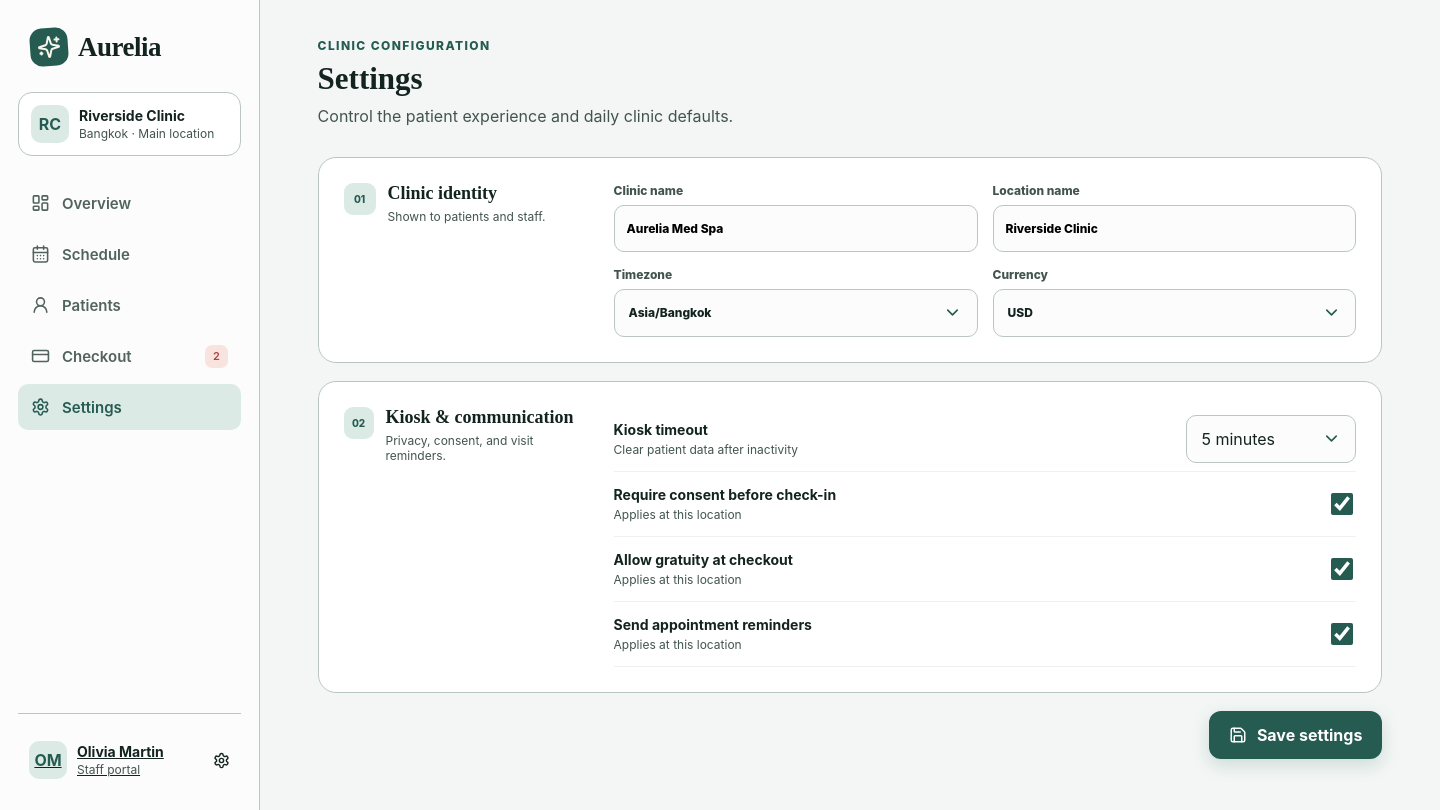
Test case: staff pages › edits and saves clinic settings
Step 1. Replace the text in the field labelled "Clinic name" with "Aurelia Test Clinic" → x=796, y=228, box x1=614 y1=205 x2=978 y2=252
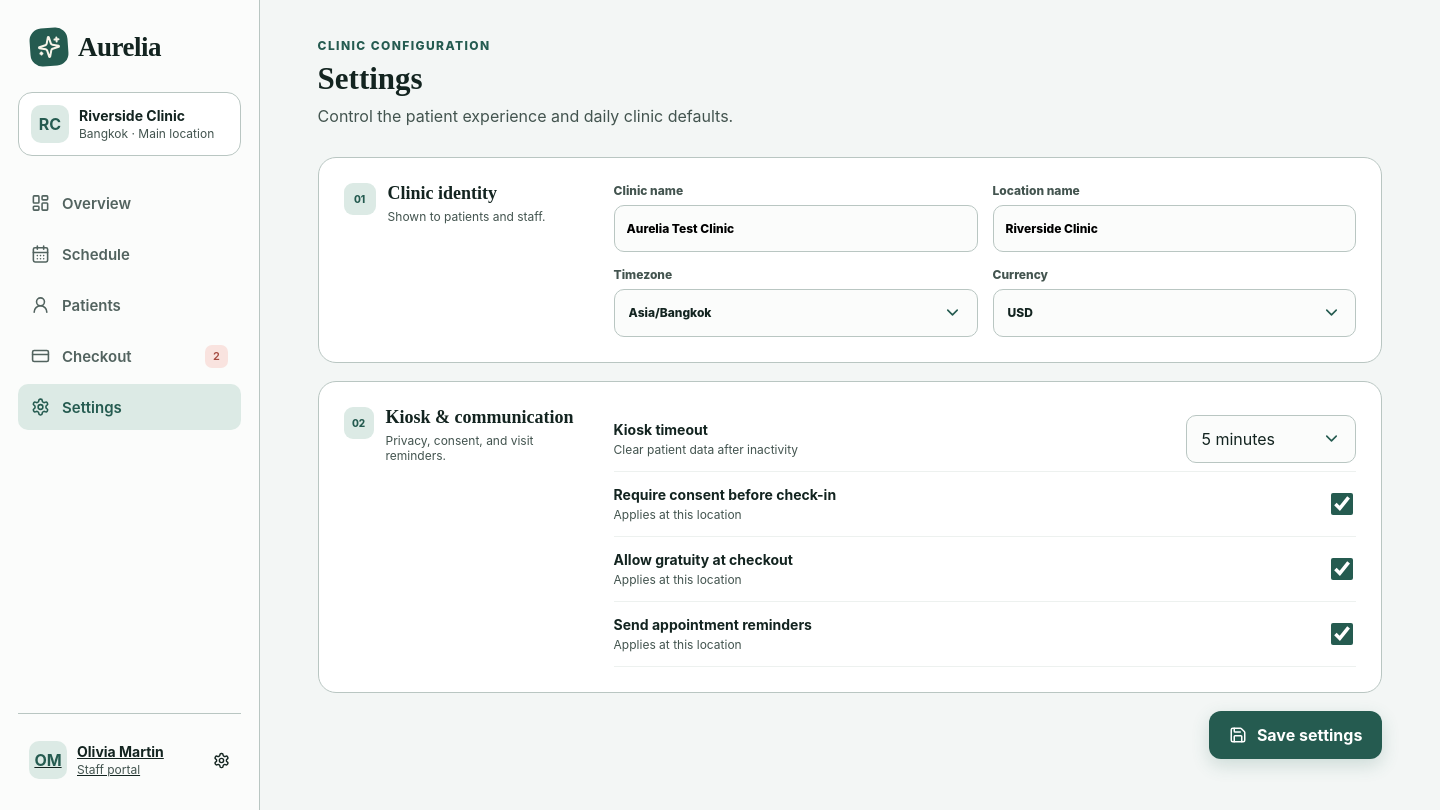
Step 2. Click the button "Save settings" → x=1296, y=735, box x1=1209 y1=711 x2=1382 y2=759
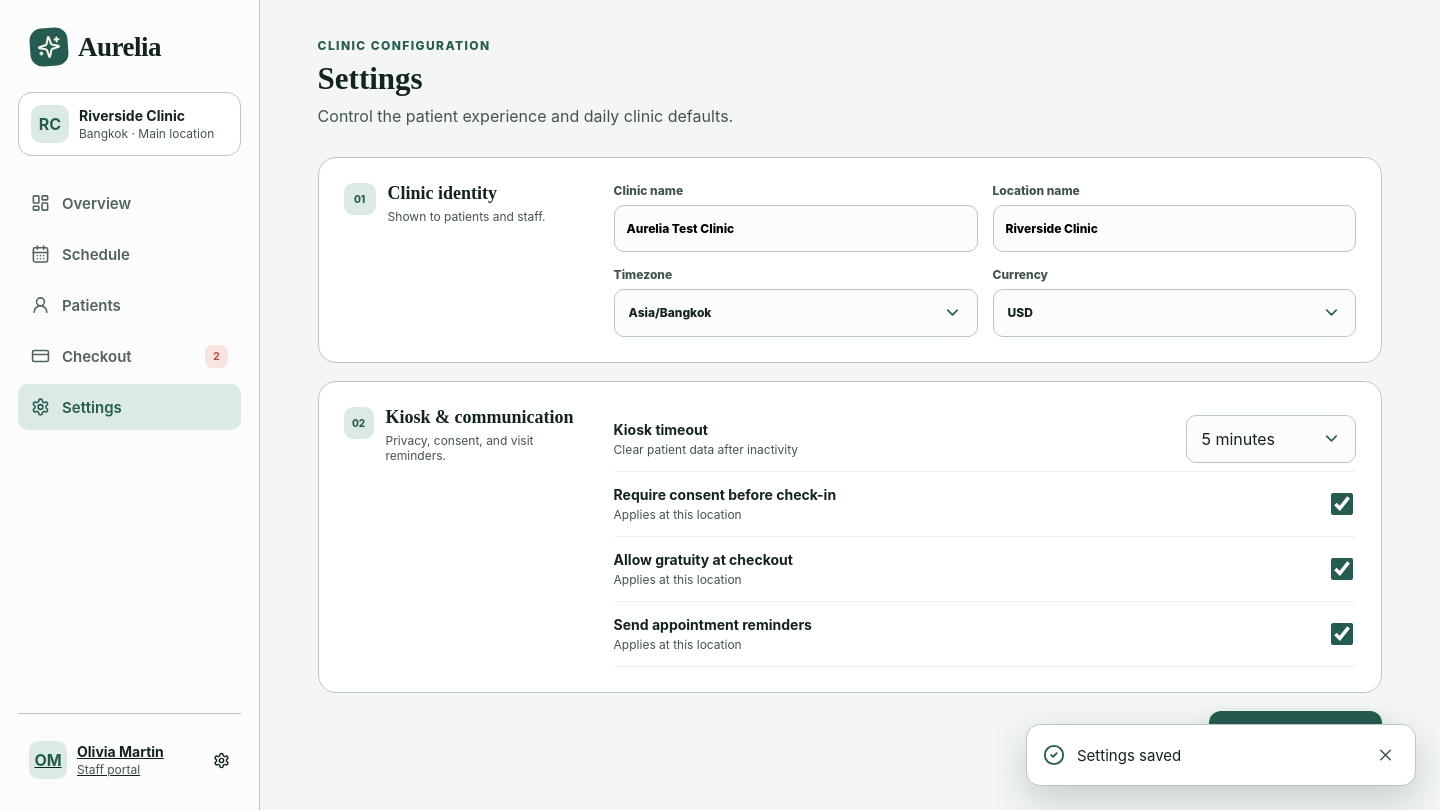
expect the text "Settings saved" is shown: met, box x1=1077 y1=746 x2=1181 y2=764
